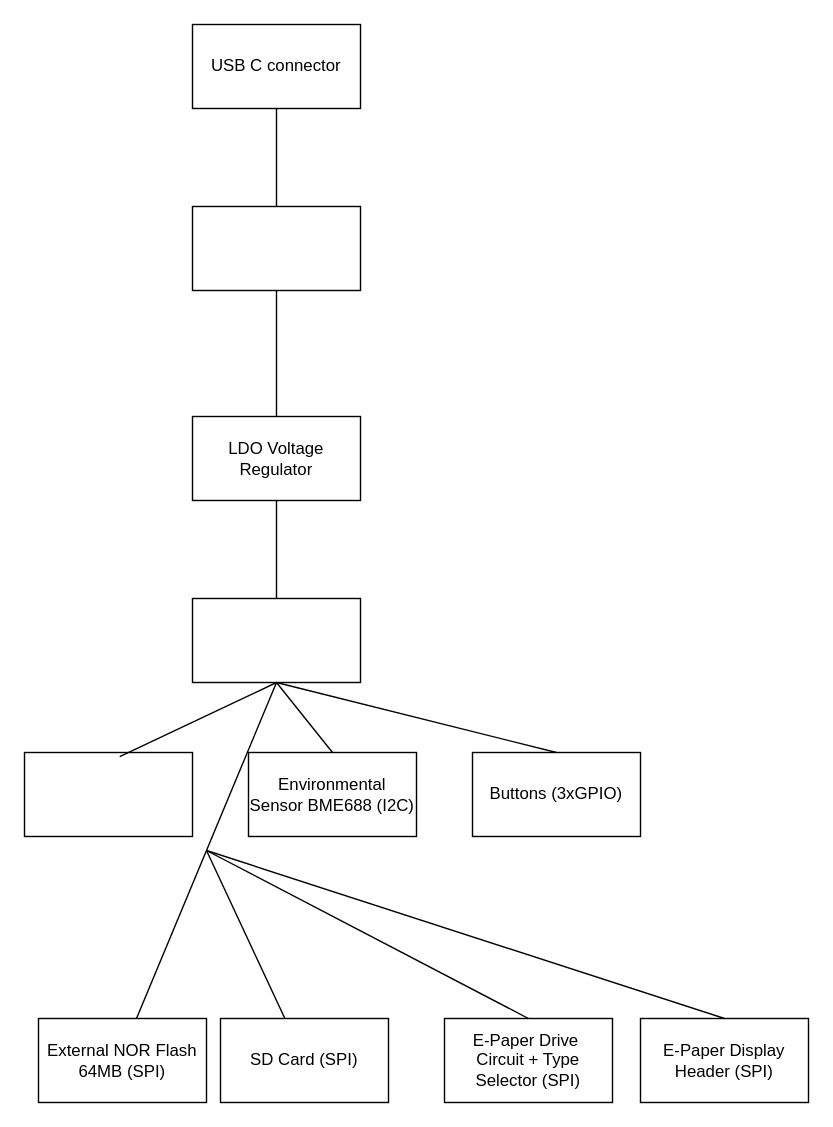
This 833x1127 diagram has some shape labels left out. The shapes that lost their labels are listed below. From the top down, each one's box as (x1, y1, x2, y2) in pixels, then its label:
(191, 205, 360, 290): Li-Po Battery Charging Controller / Battery
(191, 597, 360, 682): ESP32 C6 WROOM
(23, 751, 192, 836): RTC Module DS3231SN (I2C)
